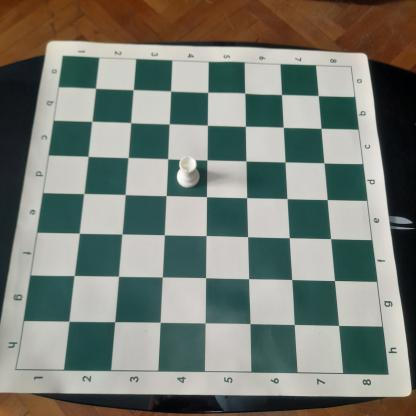white-rook: (176, 156, 202, 189)
